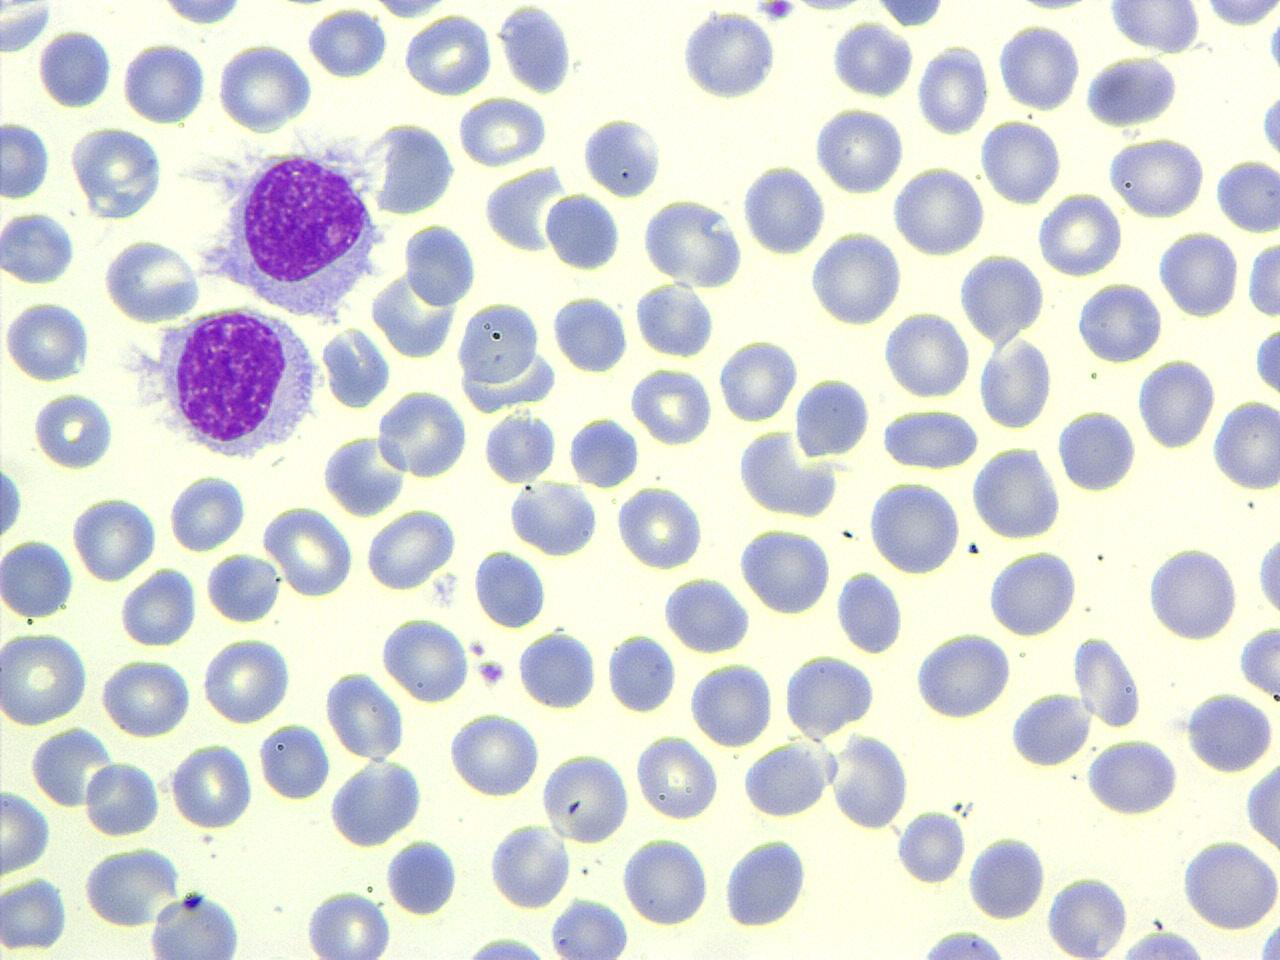Platelets: (581, 113, 664, 198), (1236, 622, 1280, 697), (0, 460, 25, 542), (1257, 87, 1280, 164), (474, 656, 508, 688), (755, 0, 796, 23), (1267, 21, 1280, 73), (182, 890, 207, 912), (466, 640, 488, 658), (1149, 916, 1167, 932), (964, 540, 977, 555)
RBC: (911, 626, 1015, 725), (1142, 542, 1240, 644), (806, 228, 906, 327), (865, 477, 963, 578), (640, 197, 746, 289), (69, 121, 164, 222), (735, 426, 839, 518), (214, 38, 313, 134), (890, 162, 988, 258), (1180, 836, 1280, 930), (80, 842, 184, 928), (736, 522, 831, 616), (970, 444, 1063, 540), (539, 748, 630, 846), (102, 235, 203, 323), (1105, 134, 1207, 221), (984, 546, 1080, 638), (812, 103, 908, 195), (0, 628, 90, 726), (375, 388, 468, 481), (379, 613, 471, 706), (620, 834, 710, 929), (882, 308, 972, 402), (782, 652, 878, 740), (739, 161, 827, 257), (956, 250, 1048, 341), (263, 505, 354, 597), (447, 710, 540, 800), (402, 10, 496, 98), (1083, 734, 1181, 818), (828, 732, 912, 830), (200, 635, 292, 724), (363, 506, 457, 592), (2, 296, 92, 384), (634, 730, 720, 822), (615, 484, 704, 572), (996, 21, 1080, 114), (1135, 355, 1217, 450), (1074, 279, 1164, 365), (119, 39, 209, 125), (1156, 228, 1240, 320), (98, 654, 190, 738), (455, 298, 540, 388), (660, 573, 753, 655), (505, 478, 600, 558), (1044, 872, 1132, 958), (70, 493, 156, 581), (1037, 189, 1123, 277), (486, 822, 570, 912), (976, 334, 1053, 432), (323, 668, 405, 760), (978, 116, 1061, 206), (321, 430, 407, 516), (1055, 406, 1139, 494), (688, 660, 772, 748), (171, 740, 253, 830), (915, 40, 990, 138), (629, 362, 715, 446), (792, 374, 874, 462), (740, 740, 829, 820), (966, 832, 1046, 921), (30, 724, 114, 808), (30, 388, 116, 470), (830, 17, 913, 101), (718, 336, 797, 423), (542, 189, 624, 272), (1212, 395, 1280, 495), (401, 220, 478, 308), (879, 404, 981, 470), (633, 279, 719, 357), (303, 887, 394, 960), (456, 95, 548, 167), (550, 291, 629, 374), (35, 26, 112, 111), (832, 568, 906, 656), (517, 629, 597, 710), (0, 536, 77, 620), (1072, 634, 1142, 726), (320, 322, 392, 411), (166, 471, 244, 553), (470, 547, 548, 628), (303, 6, 388, 80), (384, 836, 462, 916), (118, 567, 195, 648), (1, 208, 80, 286), (605, 630, 678, 714), (82, 759, 159, 838), (258, 720, 332, 802), (481, 406, 556, 486), (204, 550, 280, 626), (895, 806, 967, 886), (0, 873, 70, 952), (566, 415, 640, 488), (1104, 0, 1204, 54), (547, 898, 630, 958), (1214, 157, 1280, 232), (0, 787, 52, 876), (0, 119, 52, 202), (1244, 751, 1280, 859), (1236, 624, 1280, 698), (1245, 234, 1279, 320), (0, 1, 54, 55), (152, 0, 247, 29), (1200, 0, 1280, 28)
WBC: (199, 141, 383, 325), (150, 302, 322, 466), (676, 5, 780, 103), (866, 476, 966, 576), (362, 118, 459, 220), (1144, 542, 1240, 644), (641, 197, 745, 290), (912, 630, 1016, 723), (984, 542, 1079, 642), (972, 444, 1066, 544), (720, 832, 813, 932), (326, 758, 427, 850), (740, 158, 830, 259), (376, 390, 472, 484), (782, 650, 880, 742), (1082, 735, 1182, 819), (958, 251, 1048, 342), (507, 474, 600, 560), (1183, 689, 1275, 774), (662, 573, 754, 656), (966, 830, 1046, 924), (1056, 405, 1138, 496), (1082, 54, 1182, 128), (496, 4, 574, 97), (792, 374, 872, 464), (742, 740, 831, 820), (1008, 687, 1092, 771), (145, 890, 245, 960), (516, 627, 598, 712), (633, 279, 719, 360), (550, 290, 630, 376), (544, 188, 624, 274), (830, 18, 915, 98), (0, 534, 76, 621), (320, 324, 394, 412), (833, 566, 905, 656), (304, 5, 389, 81), (2, 206, 80, 288), (384, 836, 461, 918), (472, 547, 548, 630), (606, 630, 678, 716), (204, 548, 281, 626), (566, 413, 640, 490), (1102, 2, 1198, 54), (898, 924, 1023, 958), (1098, 926, 1218, 958), (1244, 756, 1280, 854), (1244, 234, 1280, 322), (457, 934, 556, 960), (1255, 523, 1280, 624), (1251, 320, 1279, 400), (1257, 84, 1280, 166)
